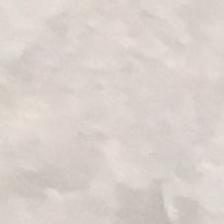Non_Crack: (12, 46, 184, 192)
